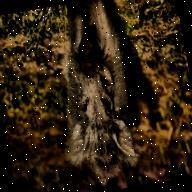boar: (41, 0, 159, 192)
